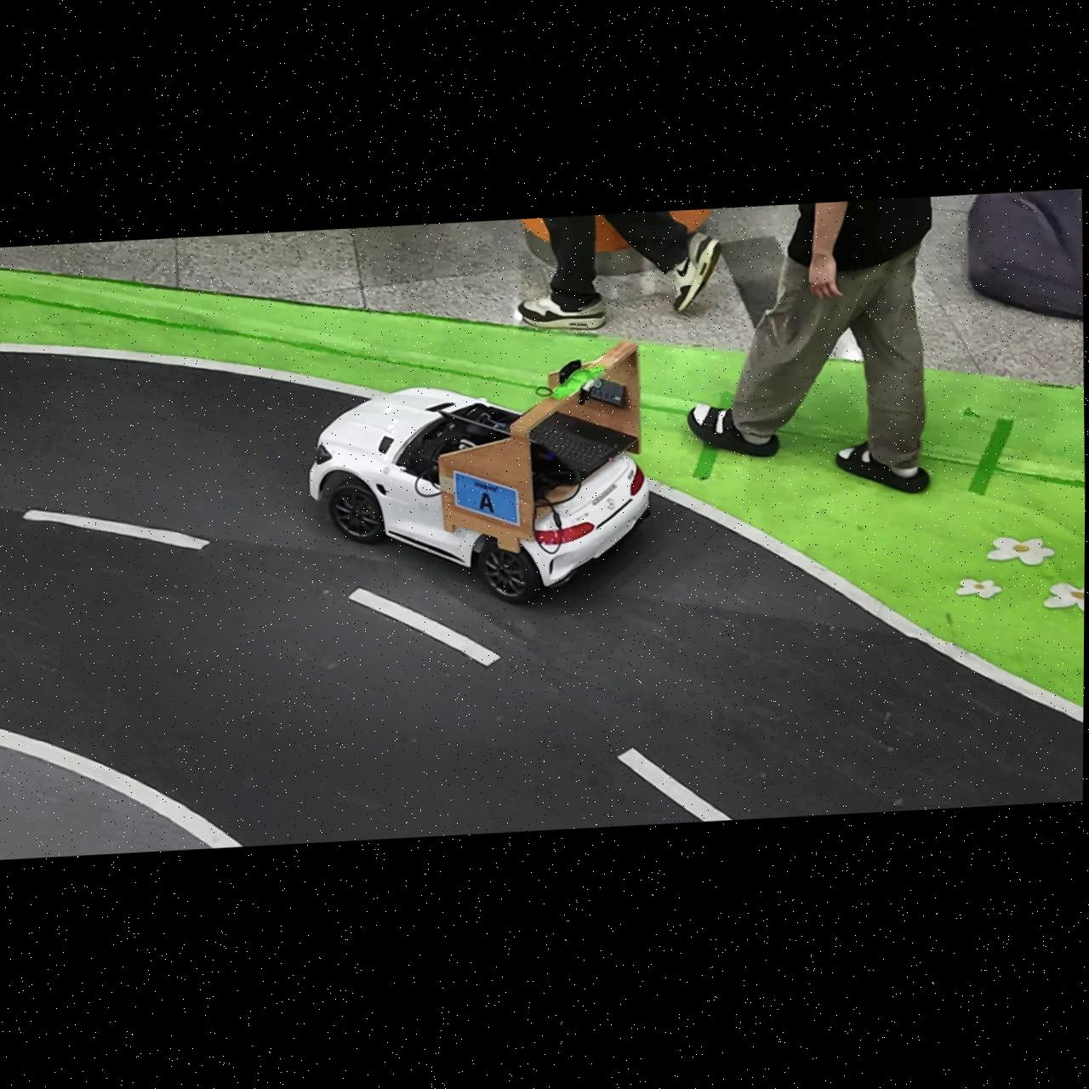broken_line: (349, 588, 499, 666), (617, 747, 731, 821), (22, 509, 211, 550)
